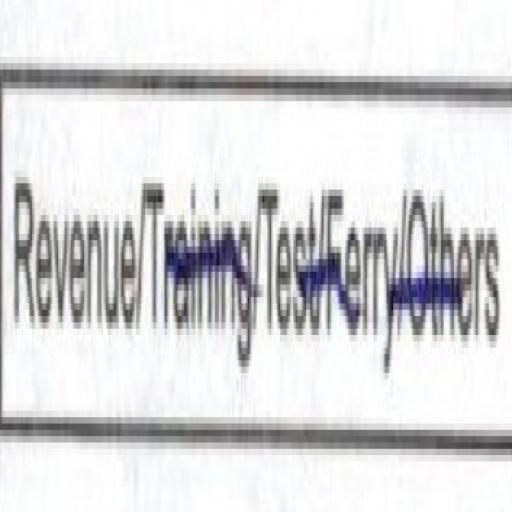check: (0, 0, 138, 493)
